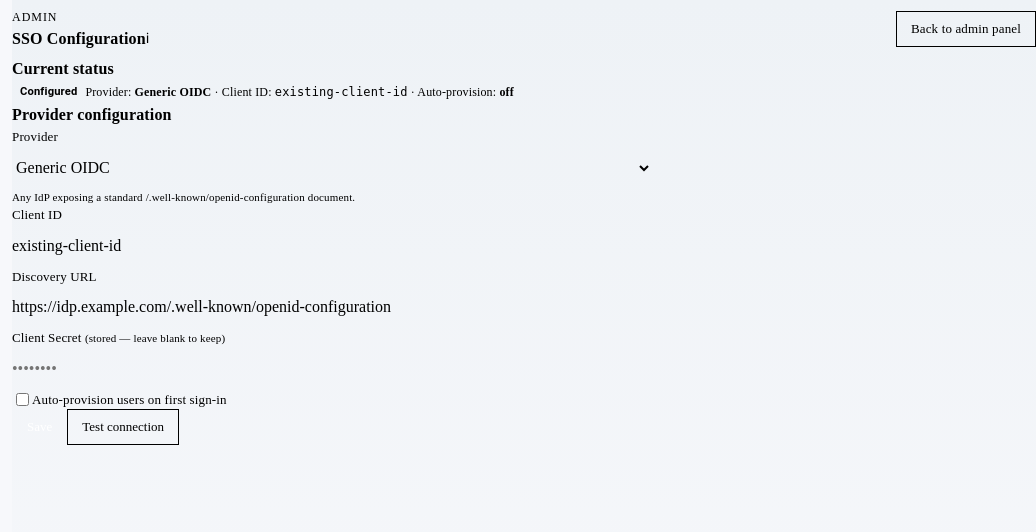
Test: SsoAdminPage (NEW-LGL-2) › runs test connection and shows the parsed endpoints on success
The image size is (1036, 532).
What coordinates should you click on to do the following:
click the button with test id "sso-test-button"
I would click on:
 (123, 427)
Its box is [67, 409, 179, 445].
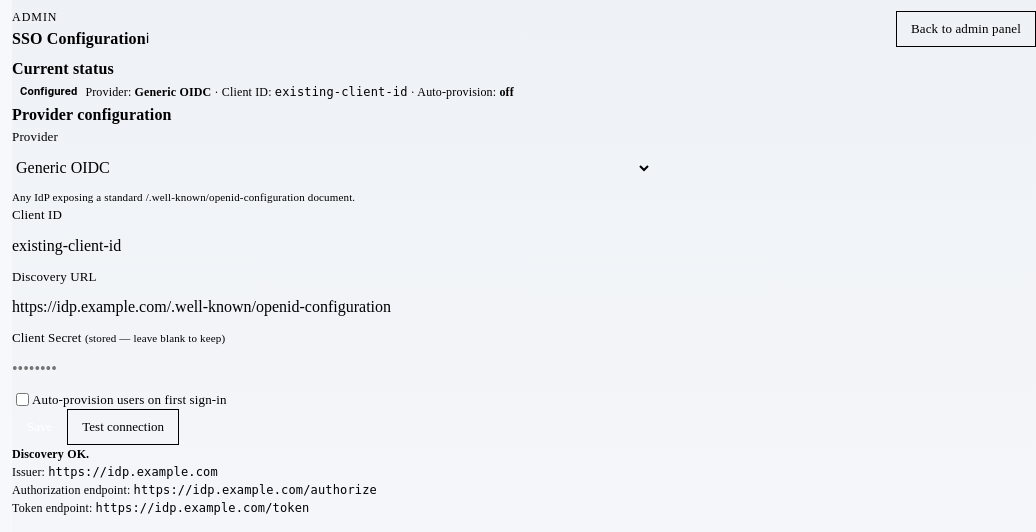
Now the element with test id "sso-test-result" shows "Discovery OK.", box [12, 447, 89, 461]
Now the element with test id "sso-test-result" shows "https://idp.example.com/authorize", box [134, 483, 377, 497]
